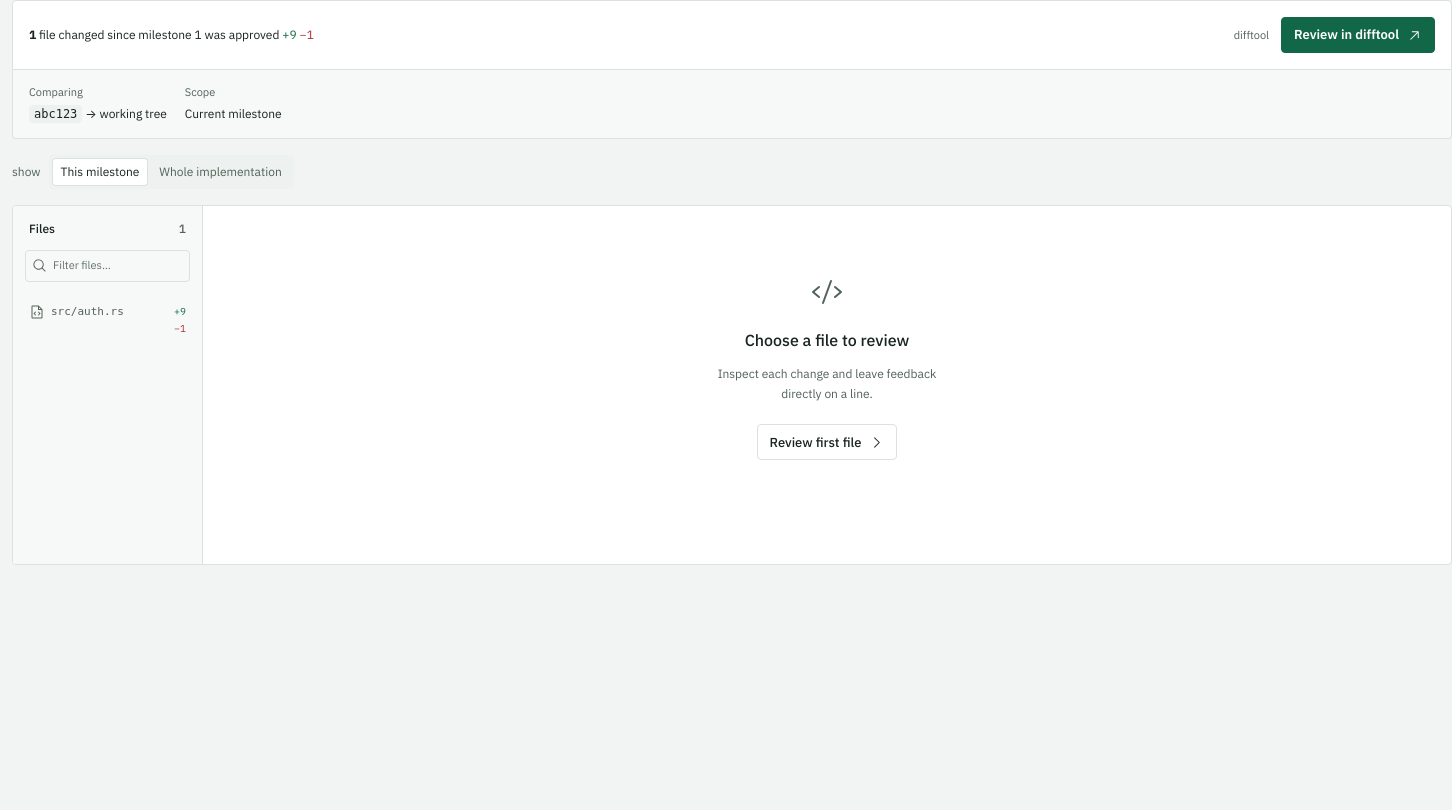
Test case: a slow milestone diff cannot overwrite the whole-implementation diff
The image size is (1452, 810).
Click the button named "Expand src/auth.rs".
click(108, 320)  # box [21,294,194,346]
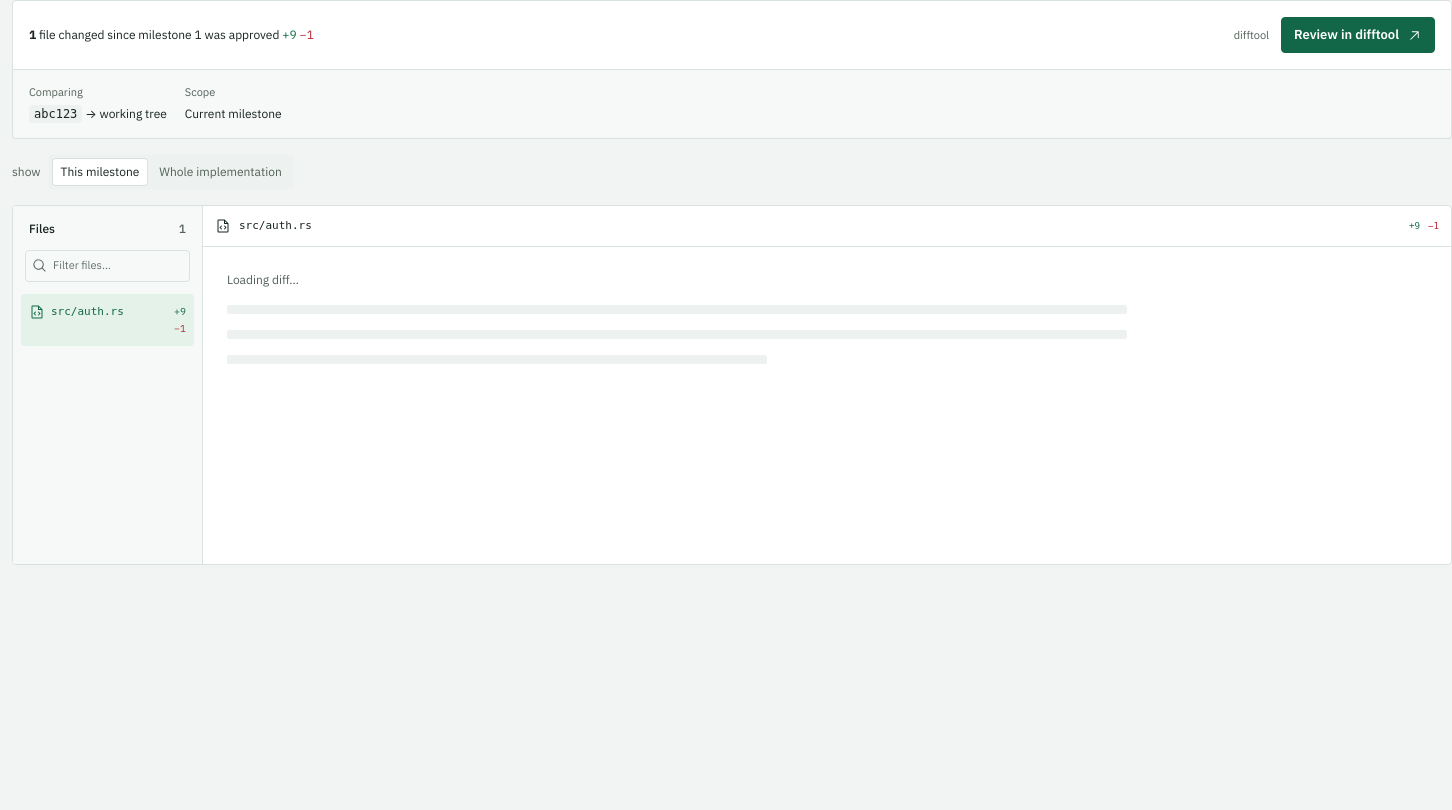
Click the tab "Whole implementation".
click(221, 172)  # box [150,158,291,186]
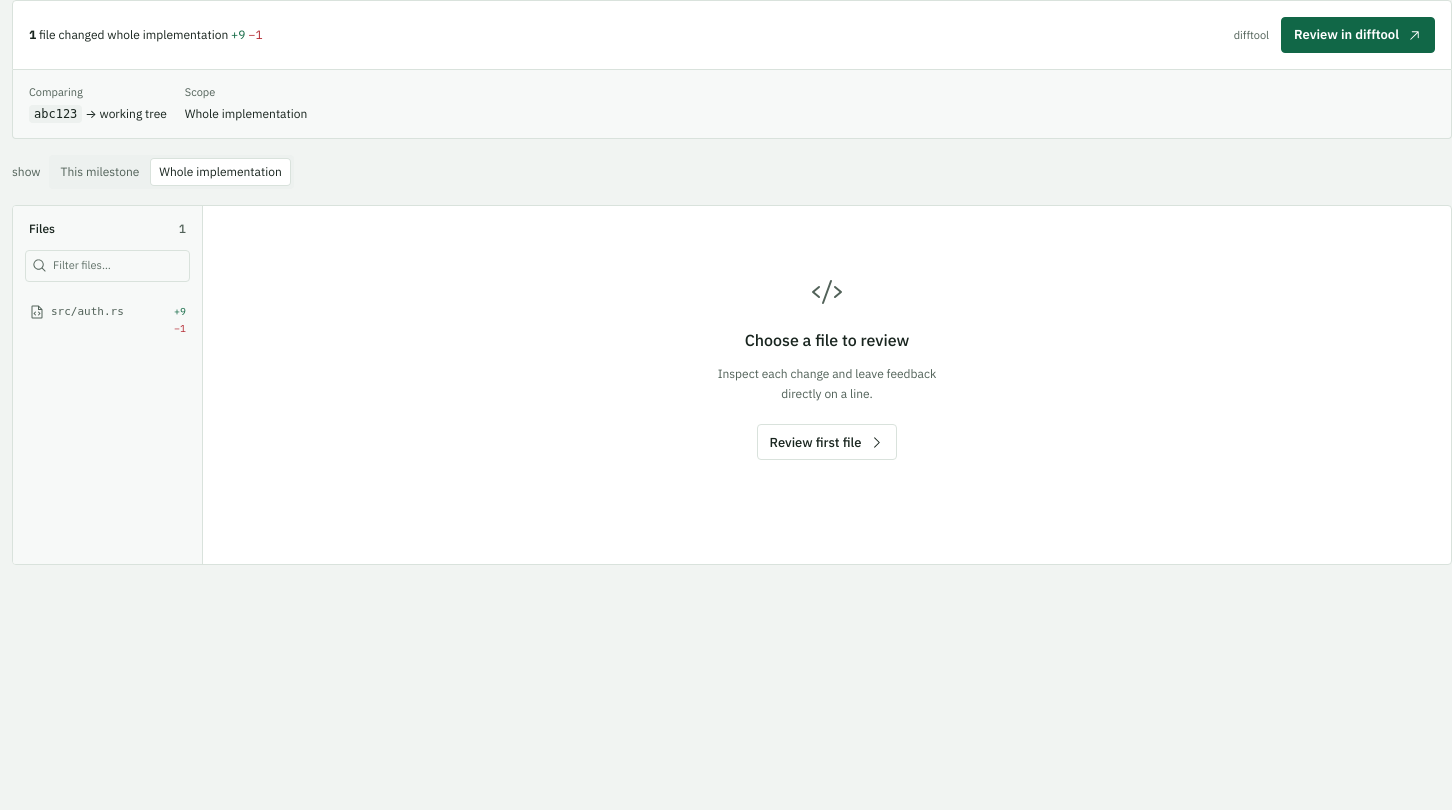
Check: the text "1 file changed whole implementation +9 −1" is shown, box [29,27,263,42]
Click the button named "Expand src/auth.rs".
click(108, 320)  # box [21,294,194,346]
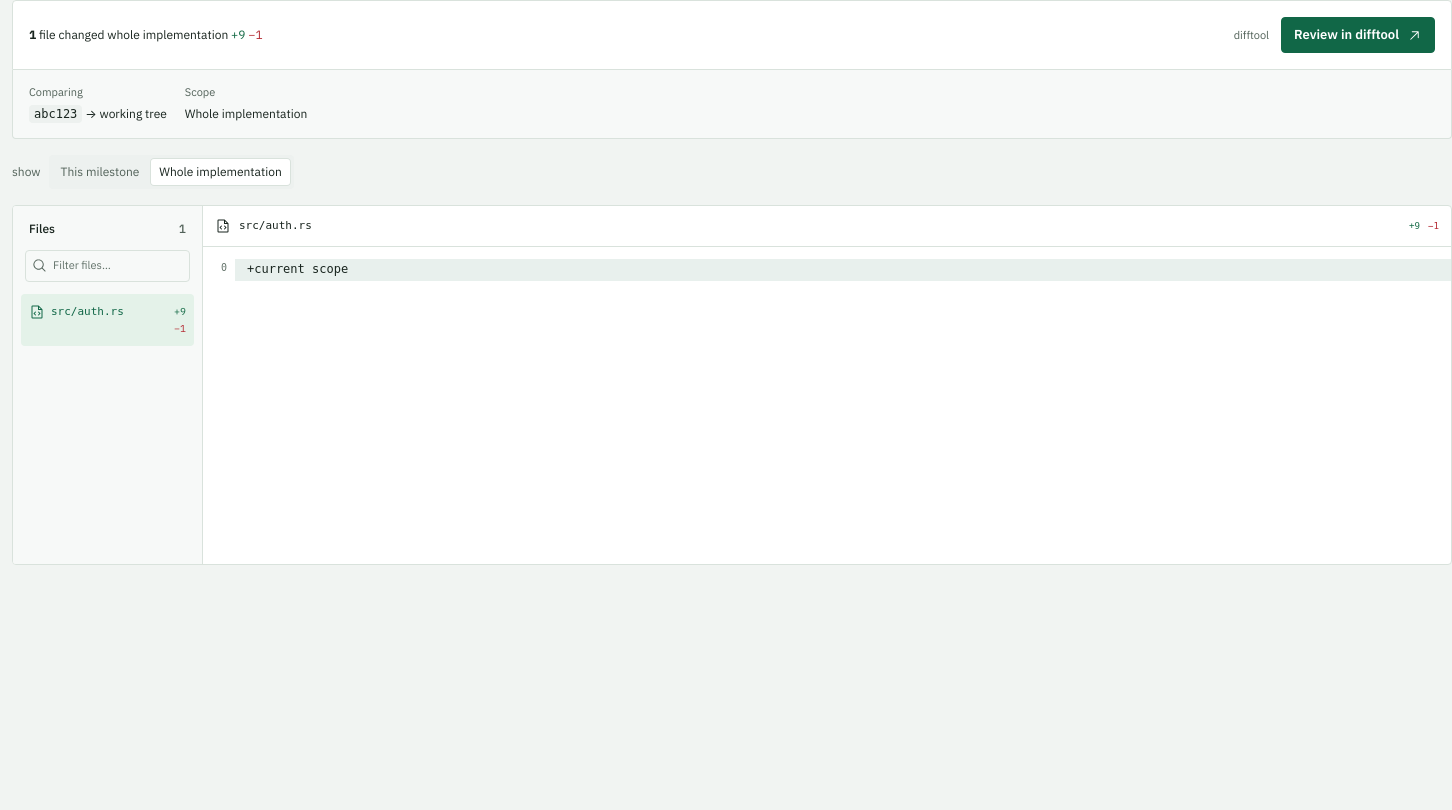
Check: the text "+current scope" is shown, box [235,259,1451,281]
